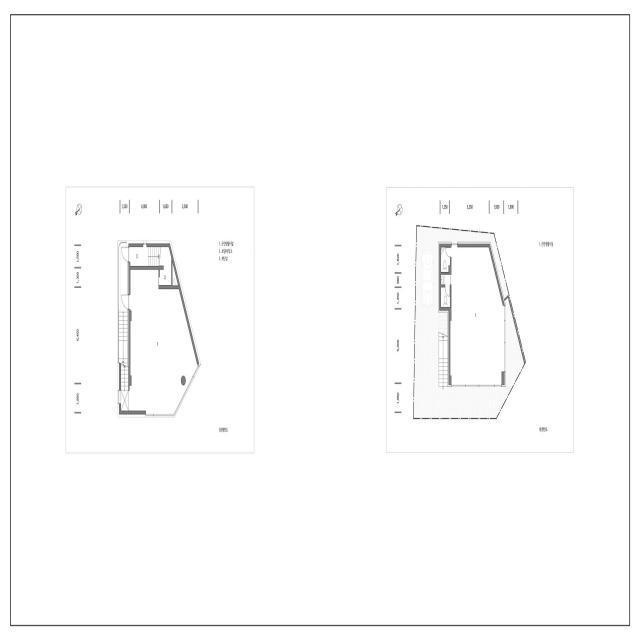space_other: (121, 270, 198, 414), (450, 247, 504, 385), (119, 246, 128, 309), (159, 247, 171, 285), (172, 262, 178, 285)
space_staircase: (119, 309, 128, 390), (130, 247, 159, 266), (439, 333, 448, 387)
space_toilet: (441, 247, 450, 272), (441, 287, 450, 307), (441, 275, 450, 285)
